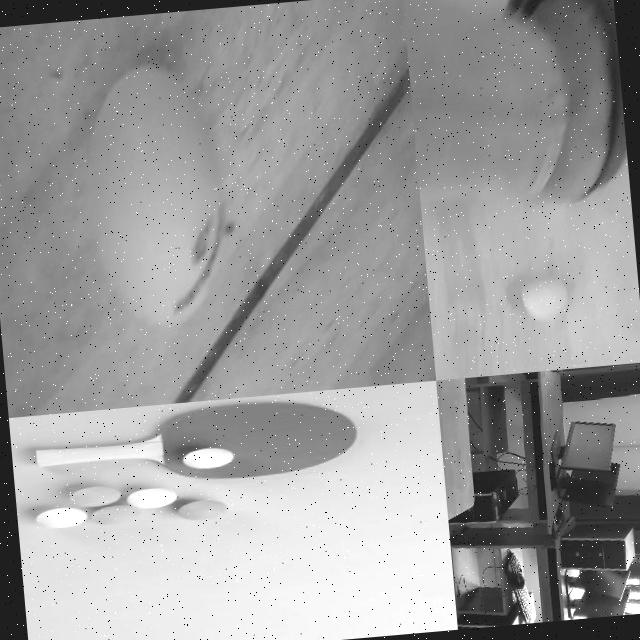ping-pong-ball: (78, 56, 232, 326), (519, 270, 568, 321), (68, 484, 120, 508), (88, 503, 140, 526), (178, 498, 227, 521)
